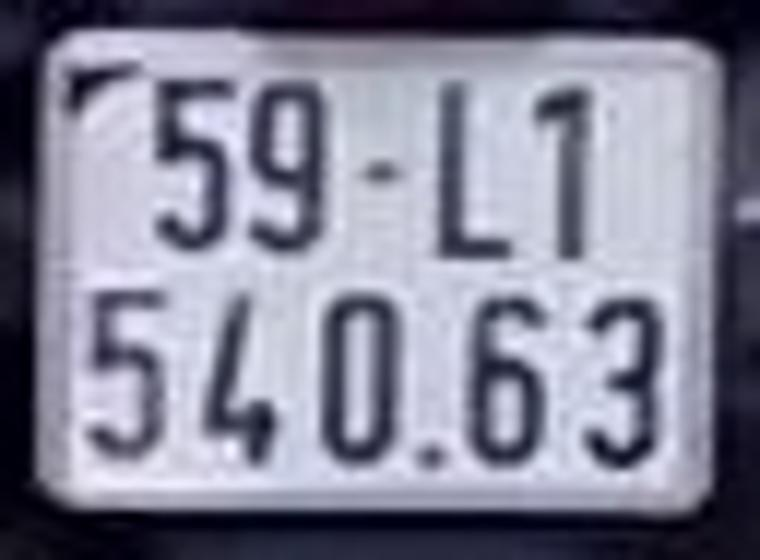-: (352, 154, 413, 188)
.: (416, 432, 451, 473)
0: (318, 291, 405, 472)
1: (530, 75, 603, 267)
3: (581, 292, 665, 471)
4: (196, 294, 281, 470)
5: (83, 282, 179, 471), (146, 70, 242, 248)
6: (458, 294, 548, 468)
9: (251, 71, 330, 247)
L: (429, 76, 518, 271)
